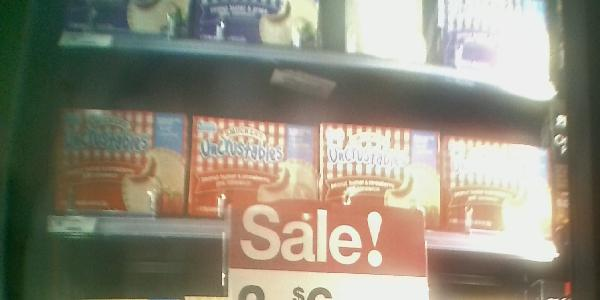icecream: (192, 100, 321, 236), (321, 111, 448, 245), (49, 100, 191, 219), (435, 128, 552, 251)
